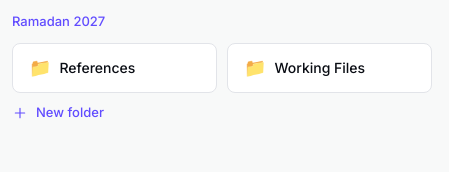
FolderPicker (I35.8) › creates a folder by name and clears the box
Click the button with test id "folder-picker-add": (58, 113) left=12, top=105, right=104, bottom=121
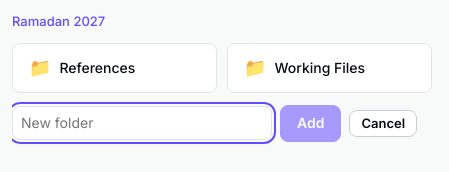
In the field with test id "folder-picker-add-name": (142, 123) left=12, top=106, right=272, bottom=140, type "  Scripts  "
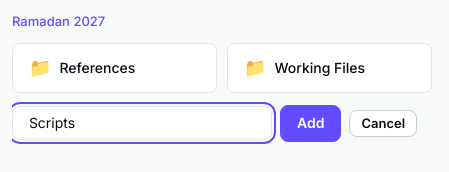
Submit the form with test id "folder-picker-add-form", box left=12, top=105, right=417, bottom=142
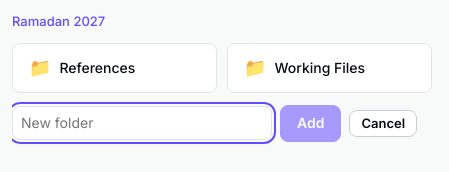
Result: the field with test id "folder-picker-add-name" is empty at left=12, top=106, right=272, bottom=140
